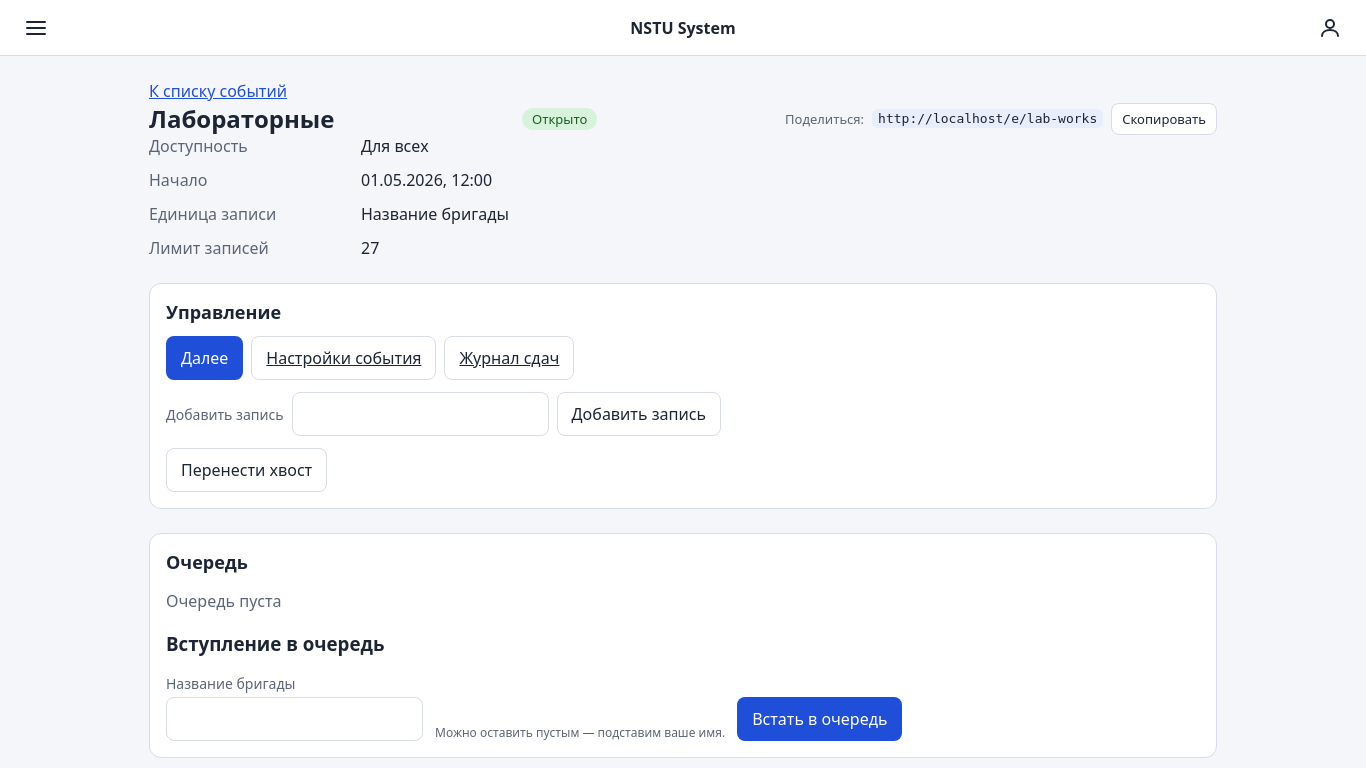
Test: блок «Поделиться» на странице события › «Скопировать» кладёт ссылку в буфер и показывает подтверждение
Click the button "Скопировать": (1164, 118) [1111,102,1217,134]
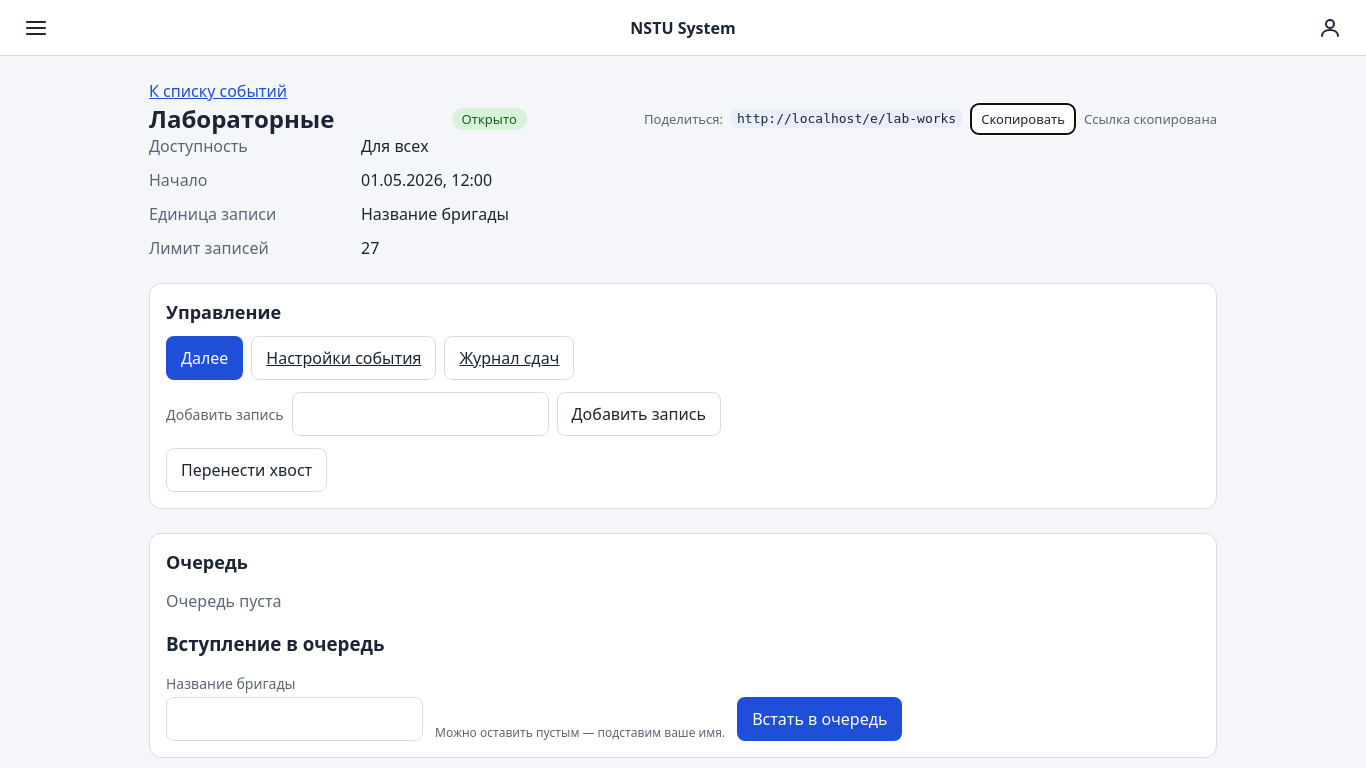
expect the text "Ссылка скопирована" is shown: met, box [1084,110,1217,128]
